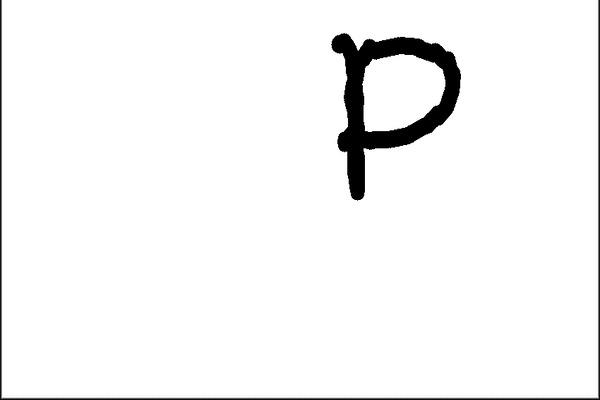P: (318, 24, 467, 205)
